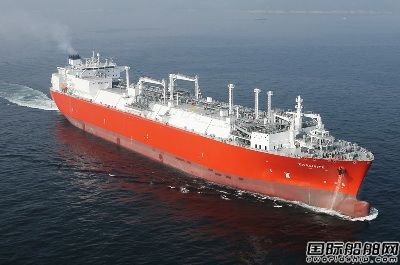Cargoship: (48, 50, 377, 220)
